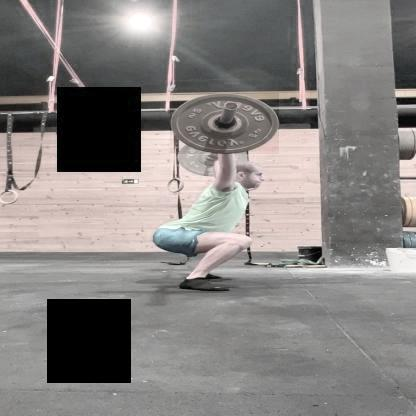barbell: (169, 93, 277, 154)
